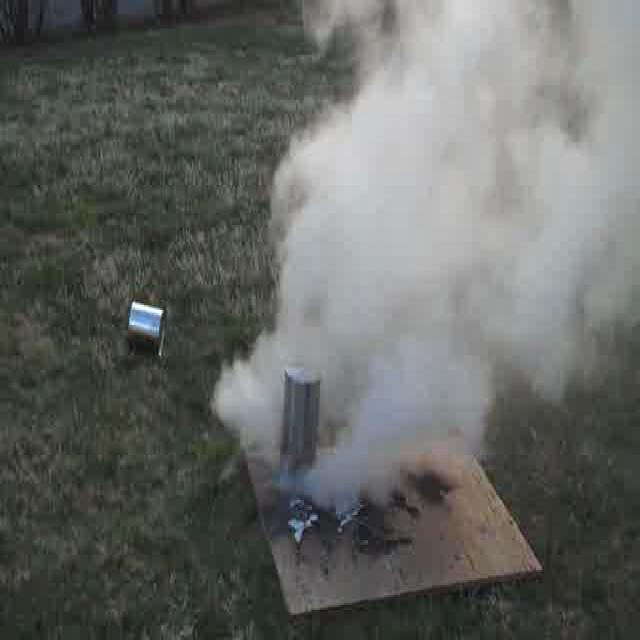Smoke: (324, 8, 636, 515)
